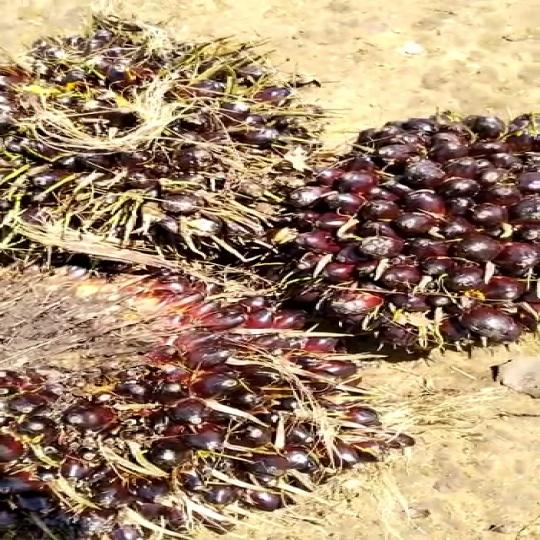mentah: (0, 277, 423, 540), (0, 5, 316, 271), (289, 76, 540, 356)
